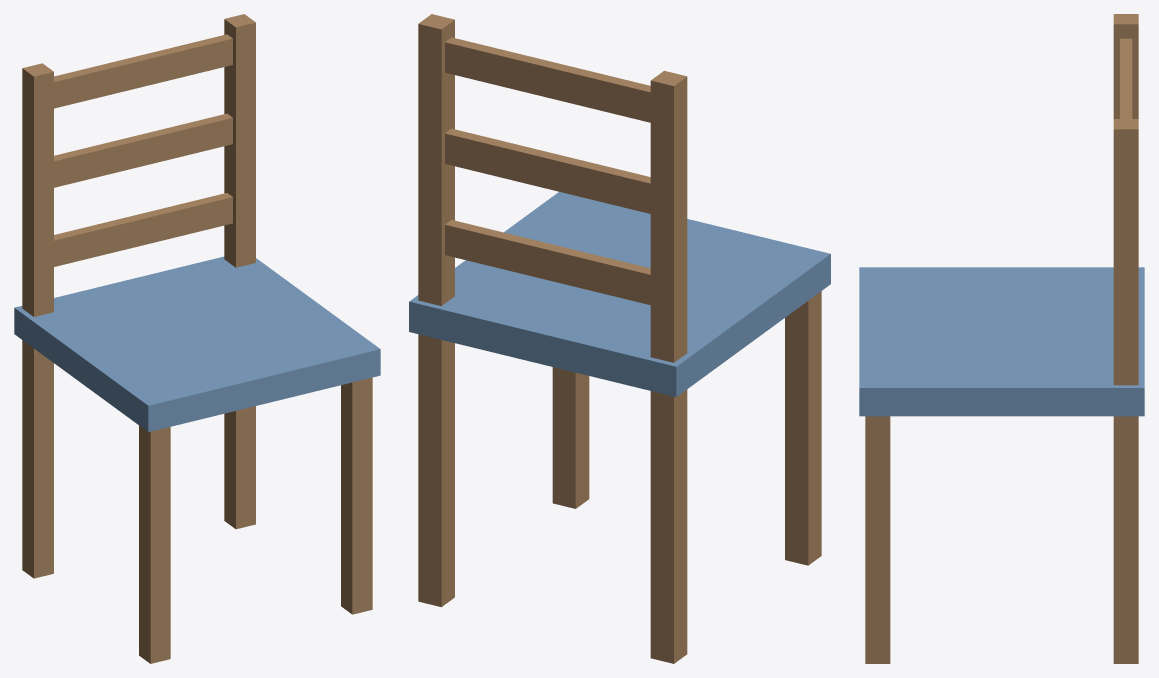
Rendered from chair.glb.
3 renders of one model, left to right at view 1: azimuth 30°, elevation 25°; view 2: azimuth 150°, elevation 25°; view 3: azimuth 270°, elevation 25°, orthographic. The views are drawn at different scales.
Visible parts, largest first — view 1: frame, seat; view 2: frame, seat; view 3: seat, frame.
Part boxes in pixels (left/top/right/bottom): frame: left=22, top=14, right=372, bottom=663; seat: left=14, top=256, right=380, bottom=431; frame: left=418, top=14, right=821, bottom=663; seat: left=409, top=192, right=830, bottom=396; seat: left=859, top=267, right=1144, bottom=416; frame: left=865, top=14, right=1138, bottom=663.
Size of the model in its own units: 0.46 by 0.95 by 0.46.
